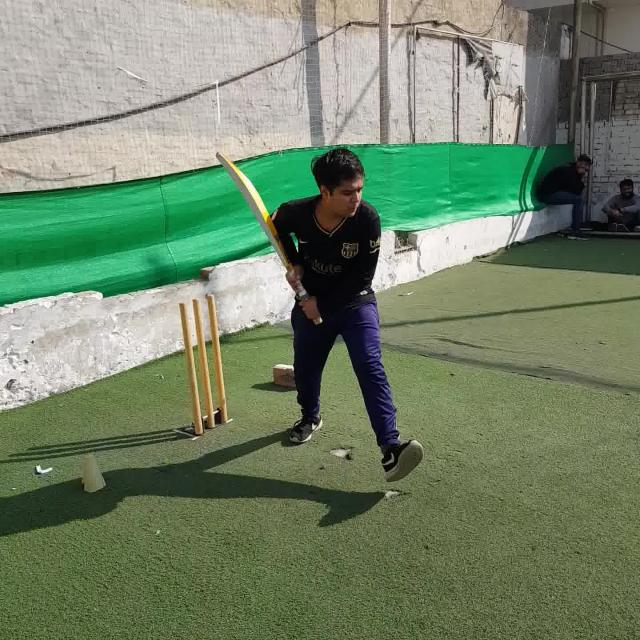bat: (215, 152, 322, 326)
